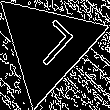L_SW: (20, 16, 76, 75)
